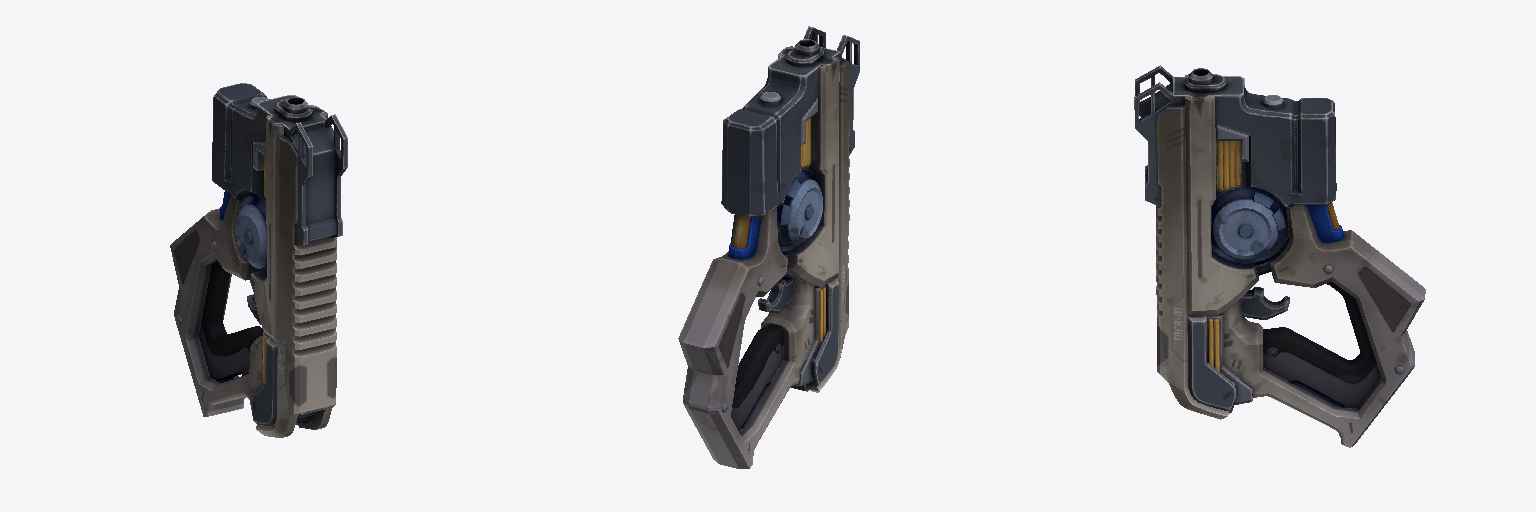
The picture shows the model from 3 angles: view 1: azimuth 30°, elevation 25°; view 2: azimuth 150°, elevation 25°; view 3: azimuth 270°, elevation 25°; orthographic projection.
Parts seen in each view (by area): view 1: Plane.008_low, Cube.017_low, Plane.011_low, Cube.022_low, Plane.009_low, Cylinder.005_low, Plane.010_low; view 2: Plane.011_low, Cube.017_low, Plane.009_low, Plane.008_low, Cube.022_low, Cylinder.005_low, Plane.010_low, Cube.020_low, Plane.013_low, Cube.018_low; view 3: Plane.011_low, Cube.017_low, Plane.008_low, Plane.009_low, Cube.022_low, Cylinder.005_low, Plane.010_low, Cube.028_low, Cube.020_low, Cube.018_low, Plane.013_low, Cube.024_low (+1 smaller).
Boxes of the visible parts, x1=… form: Plane.008_low: x1=256, y1=126, x2=336, y2=437; Cube.017_low: x1=212, y1=83, x2=347, y2=245; Plane.011_low: x1=170, y1=193, x2=263, y2=416; Cube.022_low: x1=199, y1=261, x2=263, y2=381; Plane.009_low: x1=250, y1=105, x2=327, y2=343; Cylinder.005_low: x1=235, y1=194, x2=266, y2=274; Plane.010_low: x1=251, y1=337, x2=277, y2=425; Plane.011_low: x1=678, y1=208, x2=816, y2=468; Cube.017_low: x1=721, y1=26, x2=859, y2=217; Plane.009_low: x1=778, y1=46, x2=839, y2=286; Plane.008_low: x1=808, y1=61, x2=849, y2=392; Cube.022_low: x1=731, y1=324, x2=783, y2=430; Cylinder.005_low: x1=777, y1=170, x2=822, y2=251; Plane.010_low: x1=807, y1=278, x2=838, y2=387; Cube.020_low: x1=758, y1=277, x2=792, y2=313; Plane.013_low: x1=796, y1=285, x2=825, y2=385; Cube.018_low: x1=728, y1=215, x2=761, y2=259; Plane.011_low: x1=1221, y1=205, x2=1425, y2=447; Cube.017_low: x1=1134, y1=65, x2=1336, y2=207; Plane.008_low: x1=1156, y1=105, x2=1228, y2=419; Plane.009_low: x1=1185, y1=74, x2=1258, y2=316; Cube.022_low: x1=1263, y1=282, x2=1380, y2=408; Cylinder.005_low: x1=1211, y1=188, x2=1288, y2=262; Plane.010_low: x1=1187, y1=316, x2=1235, y2=411; Cube.028_low: x1=1217, y1=141, x2=1240, y2=190; Cube.020_low: x1=1241, y1=287, x2=1289, y2=319; Cube.018_low: x1=1307, y1=205, x2=1344, y2=242; Plane.013_low: x1=1207, y1=314, x2=1252, y2=405; Cube.024_low: x1=1208, y1=318, x2=1219, y2=371.
Size of the model in its own units: 0.8333 by 5.39 by 3.87.
Materials: 1 (1 with a texture image).